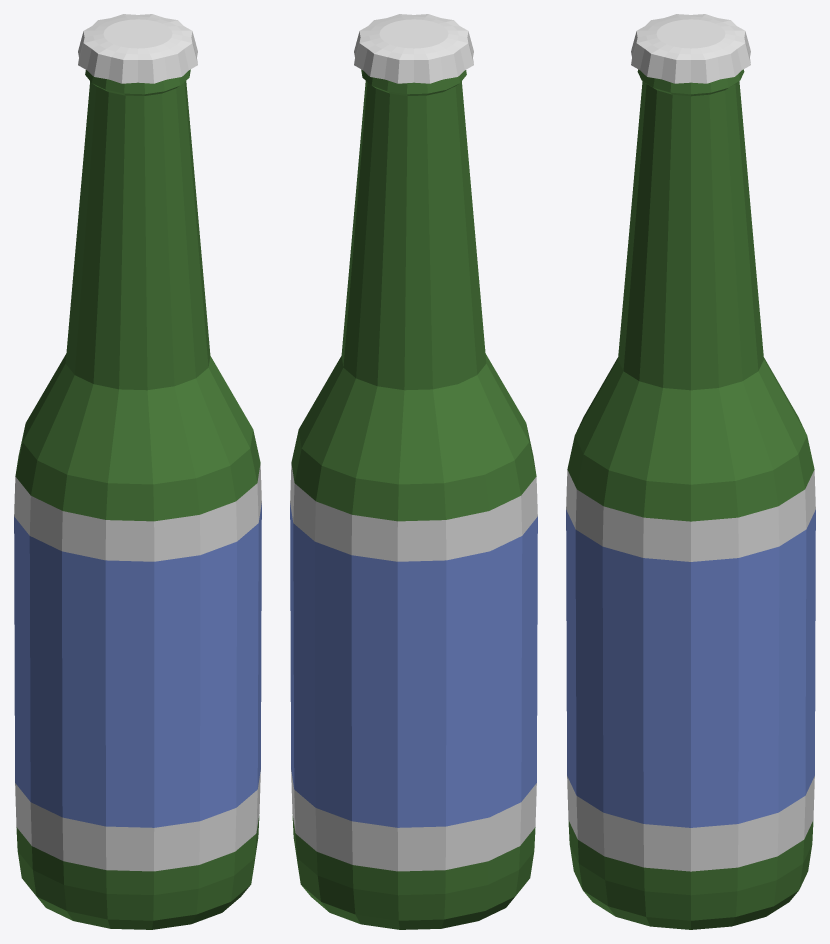
The model's file is Beer_01.fbx.
3 renders of one model, left to right at view 1: azimuth 30°, elevation 25°; view 2: azimuth 150°, elevation 25°; view 3: azimuth 270°, elevation 25°, orthographic.
Visible parts, largest first — view 1: Beer_01; view 2: Beer_01; view 3: Beer_01.
Boxes of the visible parts, x1,y1,x2,y2 form: Beer_01: (14, 14, 261, 929); Beer_01: (290, 14, 537, 929); Beer_01: (566, 14, 815, 929).
Size of the model in its own units: 5.65 by 21.25 by 5.65.
